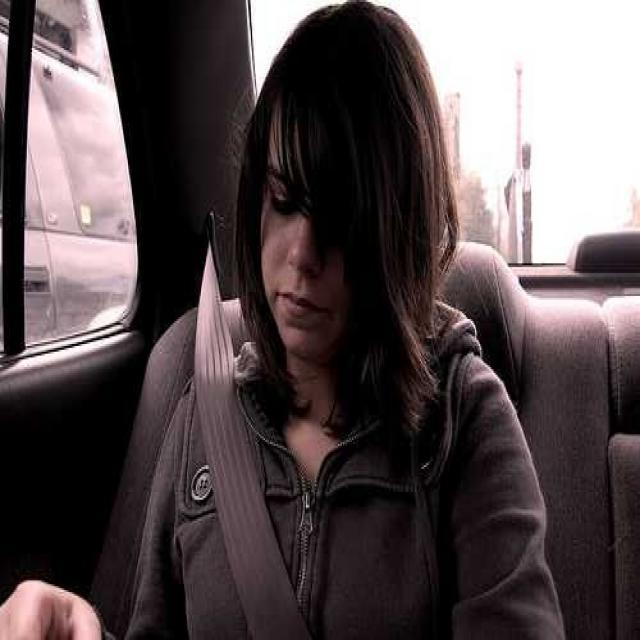seatbelt: (177, 228, 290, 606)
